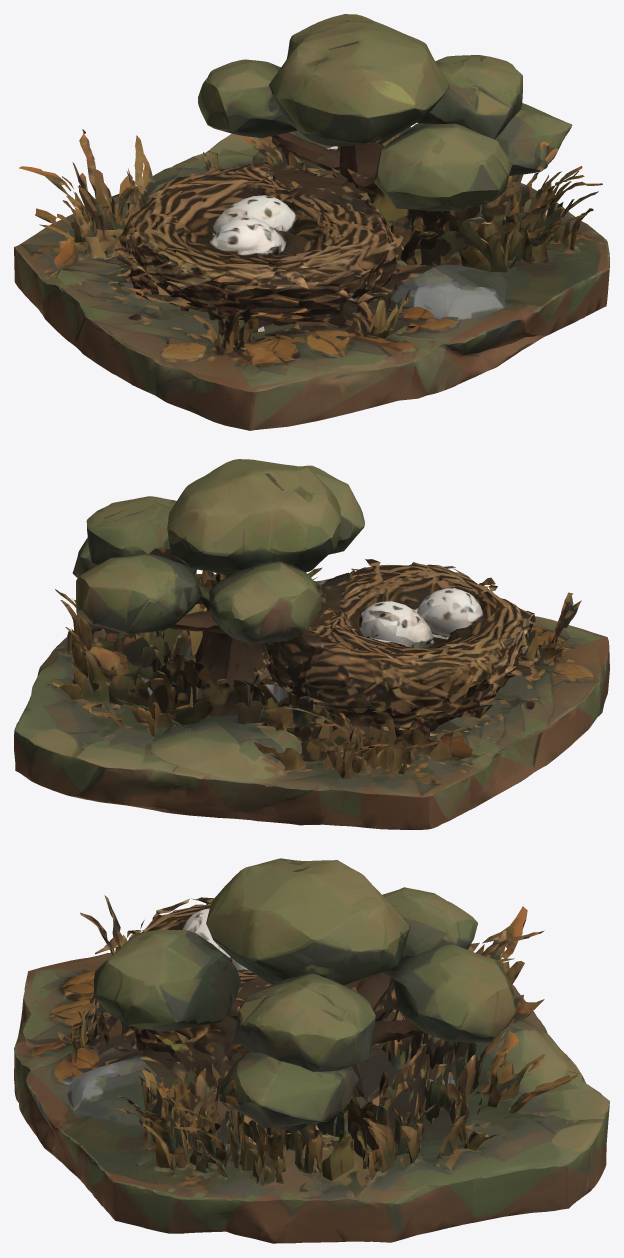
The model's file is pheasant_den.glb.
The picture shows the model from 3 angles, top to bottom: view 1: azimuth 30°, elevation 25°; view 2: azimuth 150°, elevation 25°; view 3: azimuth 270°, elevation 25°; orthographic projection. The views are drawn at different scales.
Parts seen in each view (by area): view 1: pheasant_den; view 2: pheasant_den; view 3: pheasant_den.
Boxes of the visible parts, box(x1,y1,x2,y2) form: pheasant_den: box(14, 14, 609, 430); pheasant_den: box(14, 459, 609, 829); pheasant_den: box(14, 858, 609, 1243).
Size of the model in its own units: 1.2 by 0.6065 by 1.18.
Materials: 1 (1 with a texture image).
